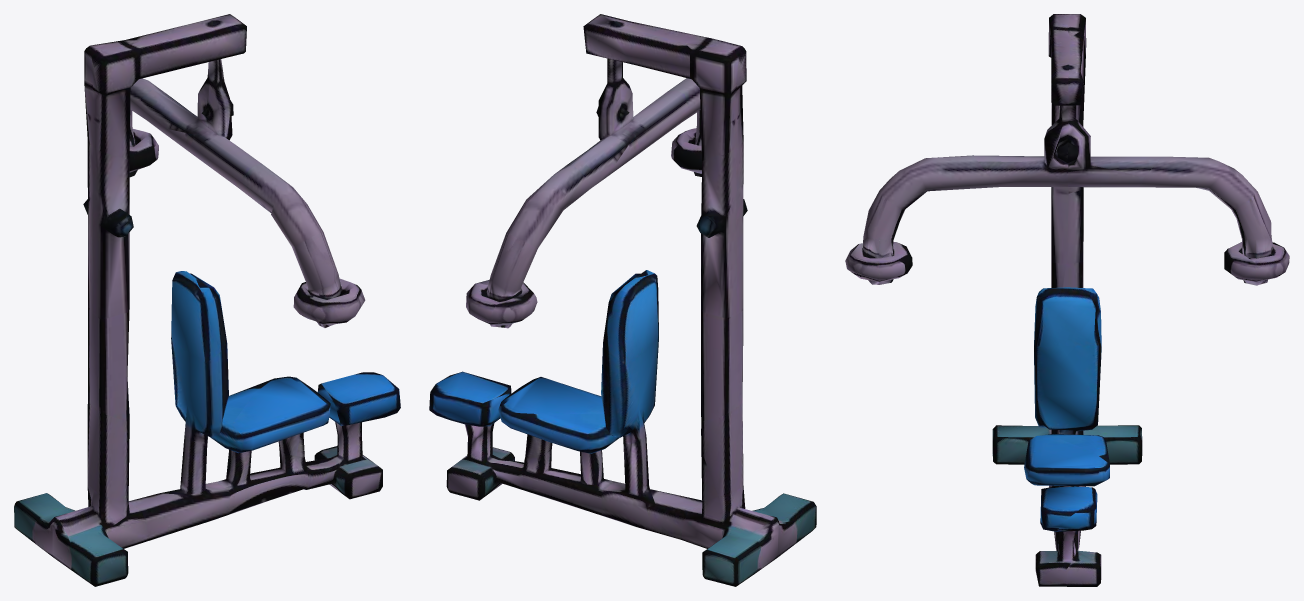
File: lat-pulldown.glb
The picture shows the model from 3 angles, left to right: view 1: azimuth 30°, elevation 25°; view 2: azimuth 150°, elevation 25°; view 3: azimuth 270°, elevation 25°; orthographic projection. The views are drawn at different scales.
Parts seen in each view (by area): view 1: tripo_node_4707e371-2716-4d4d-b909-50bf96910658; view 2: tripo_node_4707e371-2716-4d4d-b909-50bf96910658; view 3: tripo_node_4707e371-2716-4d4d-b909-50bf96910658.
Boxes of the visible parts, box(x1,y1,x2,y2) form: tripo_node_4707e371-2716-4d4d-b909-50bf96910658: box(14, 14, 400, 586); tripo_node_4707e371-2716-4d4d-b909-50bf96910658: box(429, 14, 816, 586); tripo_node_4707e371-2716-4d4d-b909-50bf96910658: box(845, 14, 1289, 586).
Size of the model in its own units: 0.7102 by 0.9999 by 0.8775.
1 material, 1 textured.
